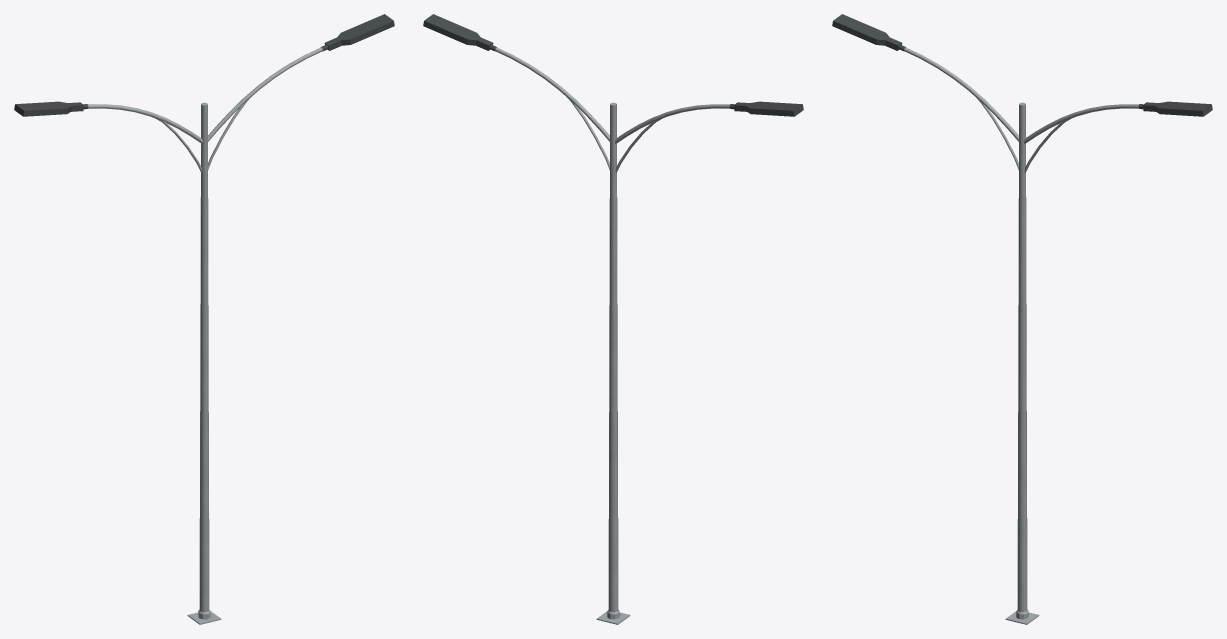
Rendered from streetlight_double_led_lod2.glb.
3 views of the same model, side by side, from view 1: azimuth 30°, elevation 25°; view 2: azimuth 150°, elevation 25°; view 3: azimuth 330°, elevation 25° (orthographic).
Visible parts, largest first — view 1: Tapered_Pole_LOD2, LED_Right_Housing_LOD2, LED_Left_Housing_LOD2, Right_Curved_Arm_LOD2, Left_Curved_Arm_LOD2; view 2: Tapered_Pole_LOD2, LED_Right_Housing_LOD2, LED_Left_Housing_LOD2, Right_Curved_Arm_LOD2, Left_Curved_Arm_LOD2; view 3: Tapered_Pole_LOD2, LED_Left_Housing_LOD2, LED_Right_Housing_LOD2, Left_Curved_Arm_LOD2, Right_Curved_Arm_LOD2.
Boxes of the visible parts, x1=… form: Tapered_Pole_LOD2: x1=198, y1=102, x2=210, y2=619; LED_Right_Housing_LOD2: x1=320, y1=14, x2=394, y2=51; LED_Left_Housing_LOD2: x1=14, y1=101, x2=88, y2=116; Right_Curved_Arm_LOD2: x1=208, y1=47, x2=322, y2=141; Left_Curved_Arm_LOD2: x1=88, y1=104, x2=202, y2=143; Tapered_Pole_LOD2: x1=607, y1=102, x2=619, y2=619; LED_Right_Housing_LOD2: x1=423, y1=14, x2=497, y2=51; LED_Left_Housing_LOD2: x1=729, y1=101, x2=803, y2=116; Right_Curved_Arm_LOD2: x1=495, y1=47, x2=609, y2=141; Left_Curved_Arm_LOD2: x1=615, y1=104, x2=729, y2=143; Tapered_Pole_LOD2: x1=1016, y1=102, x2=1028, y2=619; LED_Left_Housing_LOD2: x1=832, y1=14, x2=906, y2=51; LED_Right_Housing_LOD2: x1=1138, y1=101, x2=1212, y2=116; Left_Curved_Arm_LOD2: x1=904, y1=47, x2=1018, y2=141; Right_Curved_Arm_LOD2: x1=1024, y1=104, x2=1138, y2=143.
Size of the model in its own units: 7 by 10 by 0.4.
Materials: 4 (3 with a texture image).
